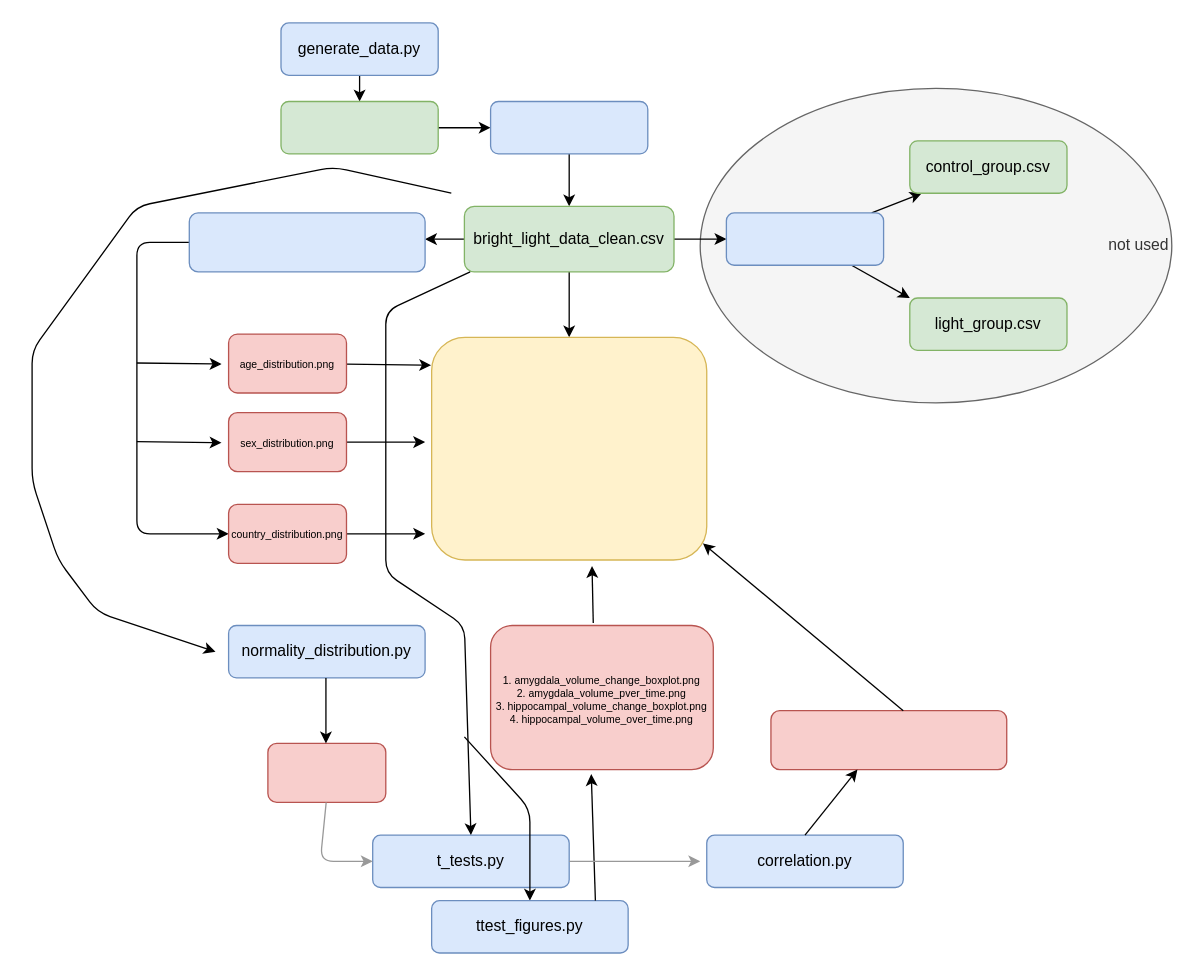
Some shapes in this 1195 by 976 pixel diagram are drawn without their labels. The centre of each missing label's shape, as x and y in pixels:
brain_volume_correlation_by_group.png: point 888,739
bright_light_data.csv: point 359,127
classify_data.py: point 804,238
clean_data.py: point 568,127
create_descriptive_figures.py: point 306,242
normality_check.png: point 326,772
summary_report.qmd: point 568,448
